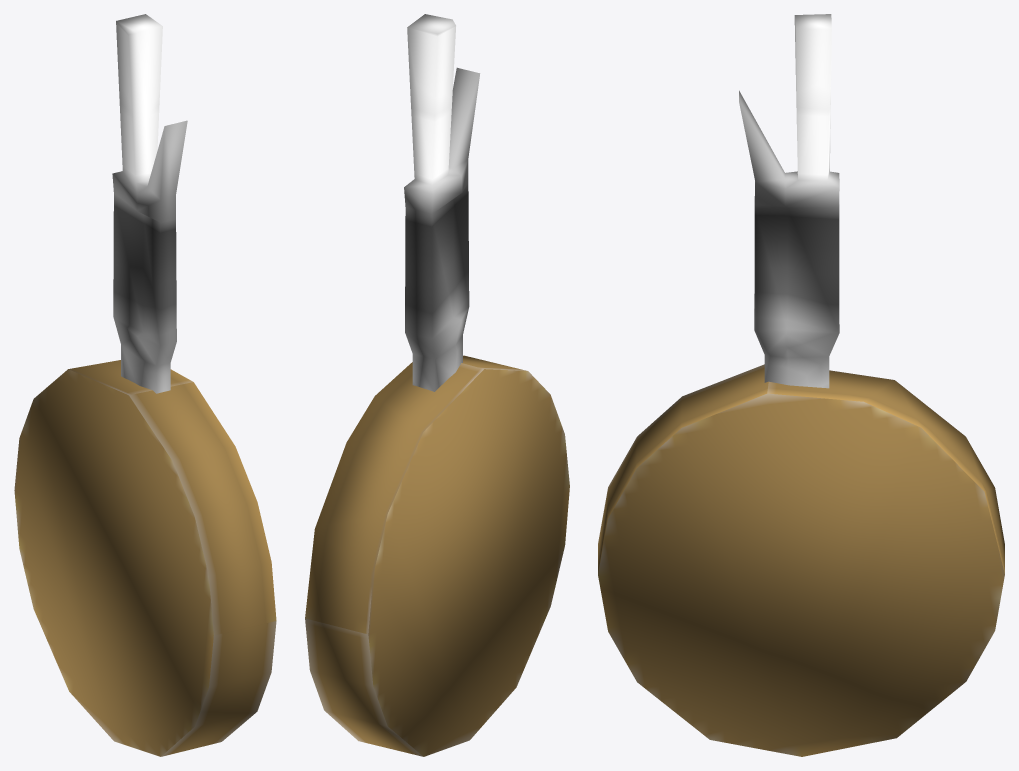
File: slider_2.obj
The picture shows the model from 3 angles, left to right: view 1: azimuth 30°, elevation 25°; view 2: azimuth 150°, elevation 25°; view 3: azimuth 270°, elevation 25°; orthographic projection. The views are drawn at different scales.
Parts seen in each view (by area): view 1: 8.Console_Little_Lever.002; view 2: 8.Console_Little_Lever.002; view 3: 8.Console_Little_Lever.002.
Boxes of the visible parts, x1,y1,x2,y2 form: 8.Console_Little_Lever.002: (14, 14, 276, 756); 8.Console_Little_Lever.002: (305, 14, 569, 756); 8.Console_Little_Lever.002: (598, 14, 1004, 756).
Size of the model in its own units: 0.0276 by 0.2932 by 0.1501.
1 material, 1 textured.
